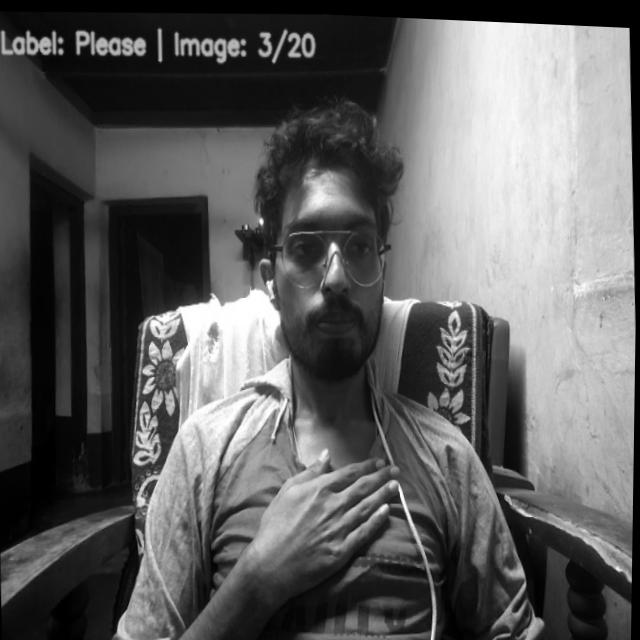Please: (247, 440, 405, 610)
